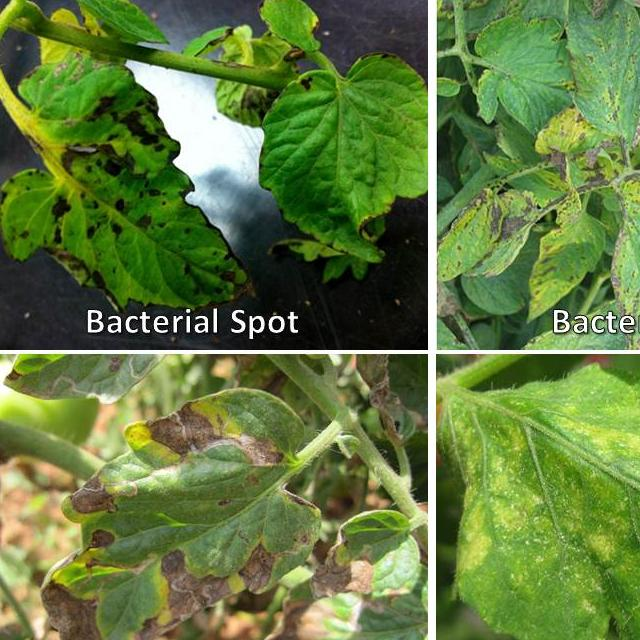Tomato leaf bacterial spot: (9, 382, 338, 640), (0, 53, 259, 331), (249, 41, 428, 305), (453, 4, 597, 137), (544, 0, 640, 163), (524, 174, 607, 341), (448, 186, 543, 299), (601, 166, 640, 347)
